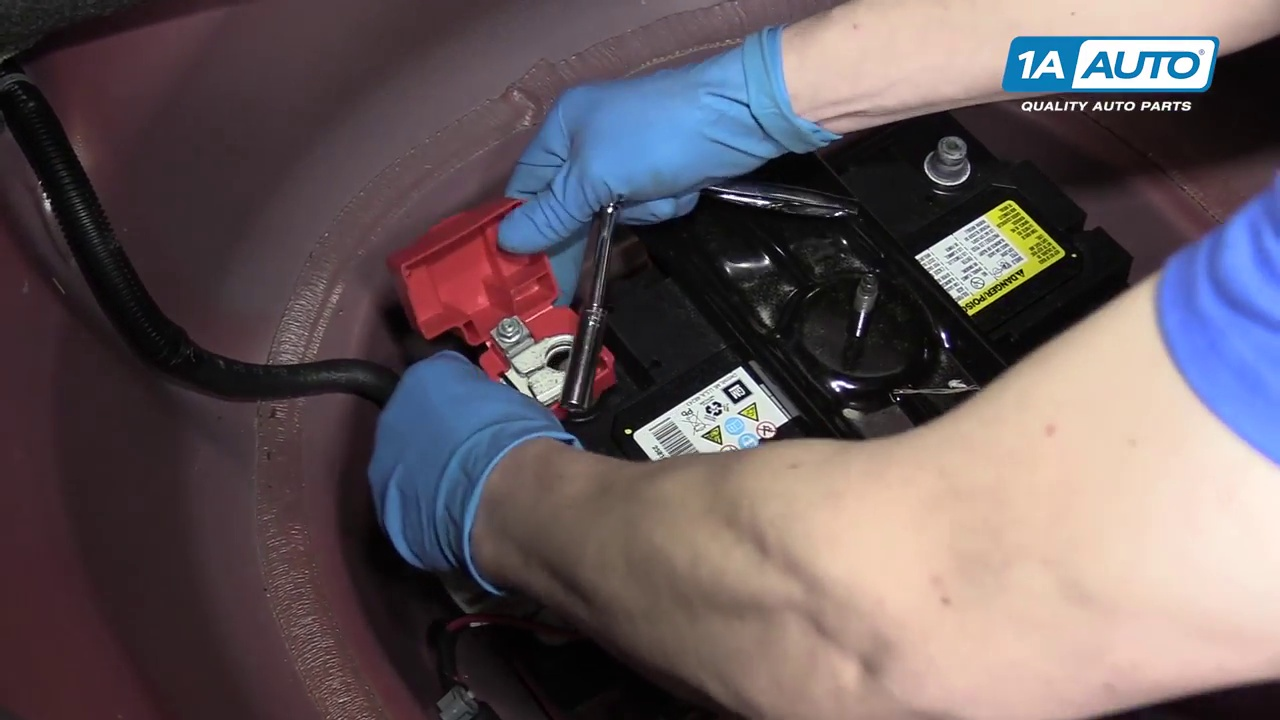battery: (437, 115, 1129, 459)
neg_disconnected: (908, 117, 989, 205)
pos_touched: (403, 129, 648, 430)
